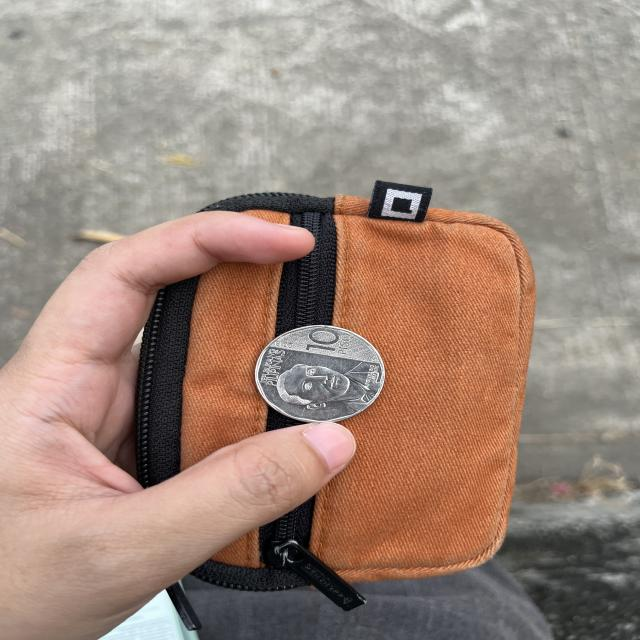10_New_Front: (289, 318, 355, 366)
